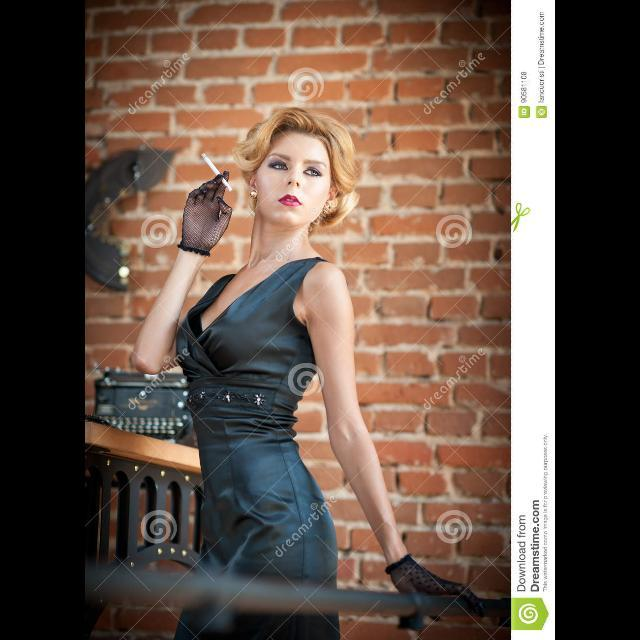rokok: (198, 151, 234, 191)
